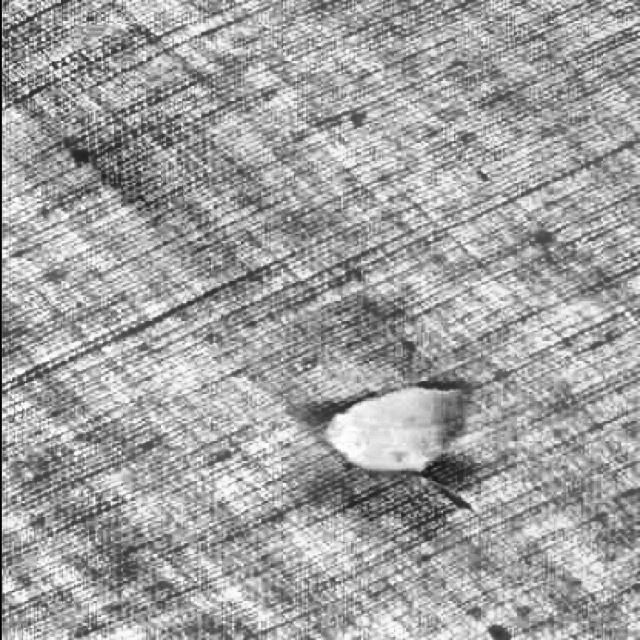objects: (306, 362, 492, 495)
